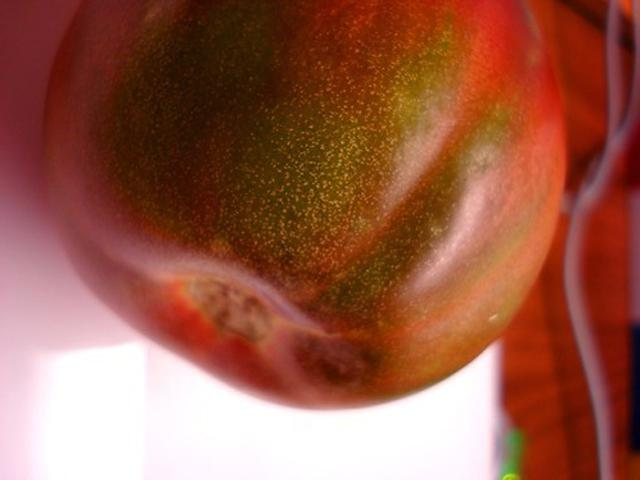tomato: (44, 1, 567, 408)
